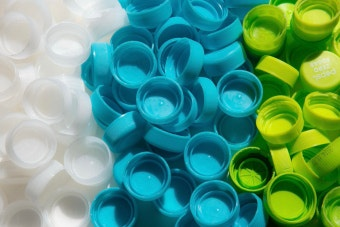plastic: (0, 0, 126, 227)
